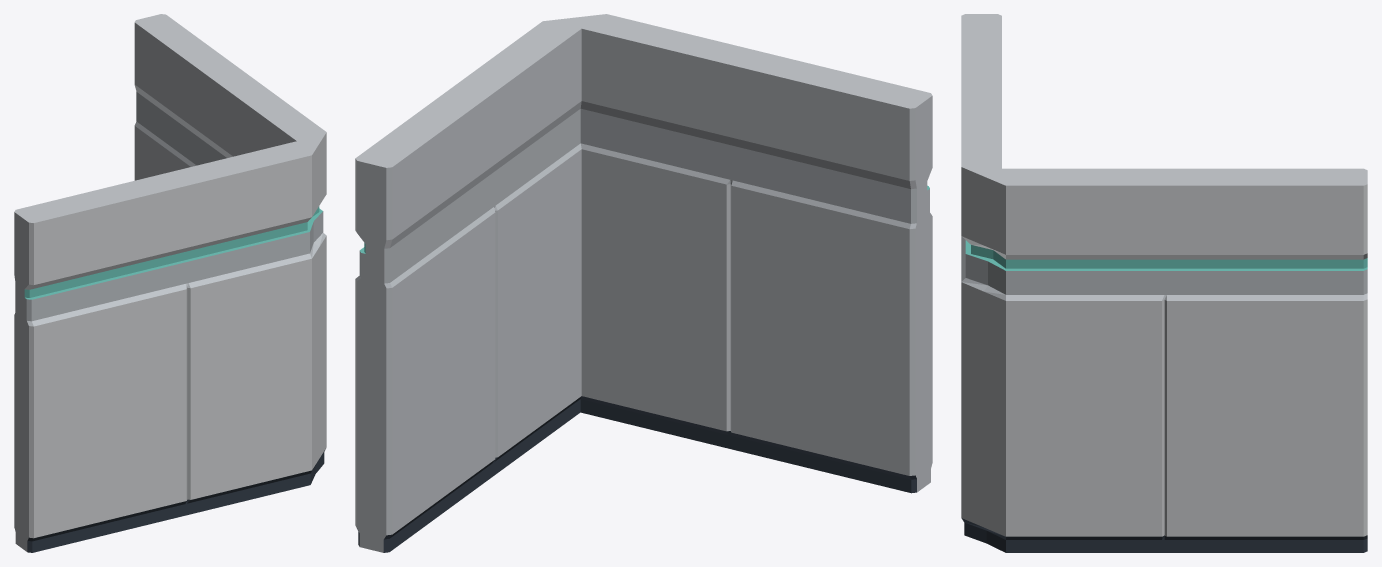
File: facade-wall-module-31f5ab.glb
3 renders of one model, left to right at view 1: azimuth 30°, elevation 25°; view 2: azimuth 150°, elevation 25°; view 3: azimuth 270°, elevation 25°, orthographic. The views are drawn at different scales.
Visible parts, largest first — view 1: facade-wall-module; view 2: facade-wall-module; view 3: facade-wall-module.
Boxes of the visible parts, x1,y1,x2,y2 form: facade-wall-module: (14, 14, 326, 552); facade-wall-module: (355, 14, 932, 552); facade-wall-module: (961, 14, 1367, 552).
Bounding box in the file's own units: 4 × 4 × 4.
